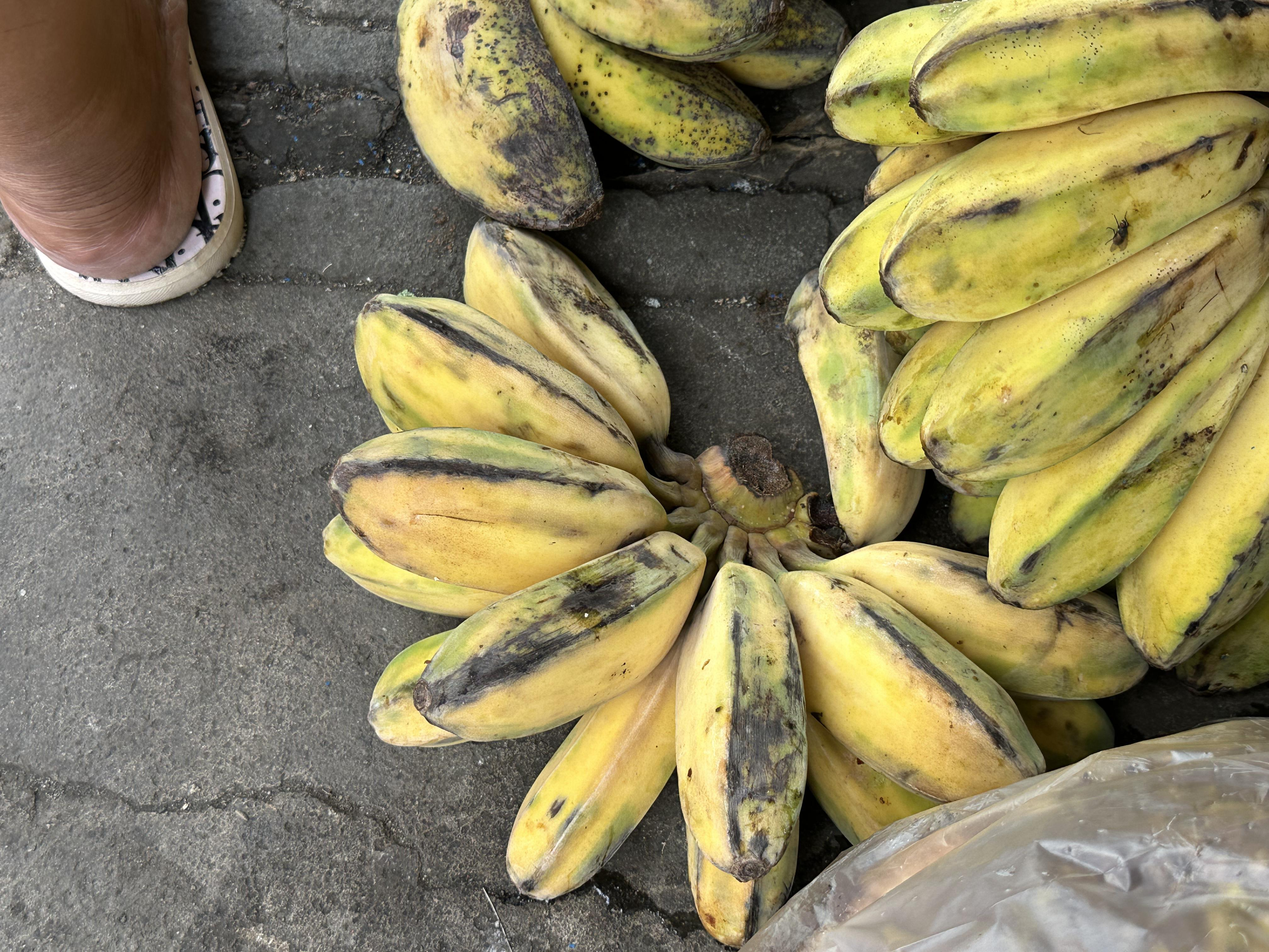underripe: (324, 219, 1149, 946), (820, 0, 1269, 691), (397, 0, 849, 230)
